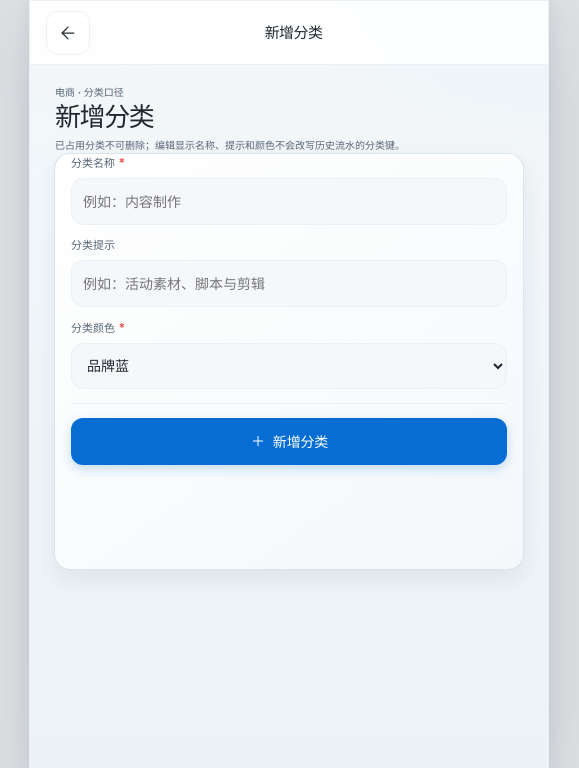
Test: T6 二级表单统一规格 › 分类表单：统一规格类名存在，颜色选择保留，保存路径不破
Expected: the element with class "form-actions" is shown, [71,403,507,465]
Expected: the button with class "form-save" is shown, [71,418,507,465]
In the field labelled "分类名称": (289, 202) [71,178,507,225], type "规格回归分类"
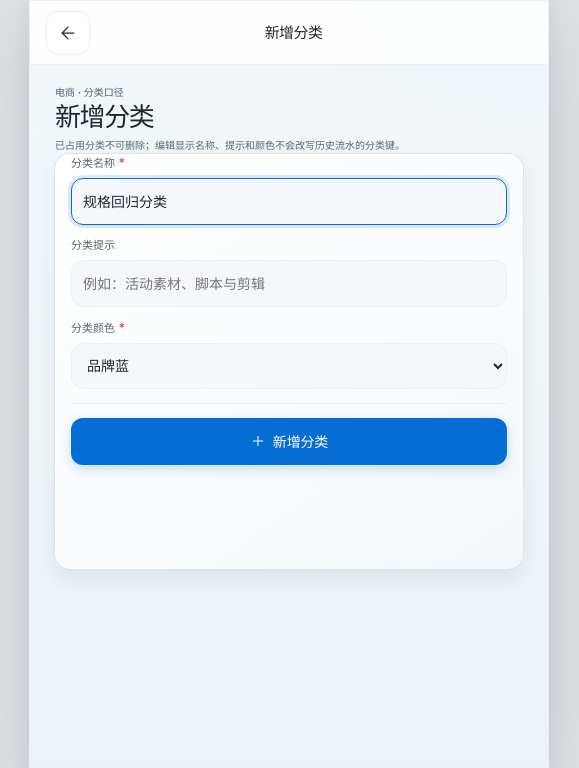
Click the button with class "form-save": (289, 442) [71,418,507,465]
(page scrolled)
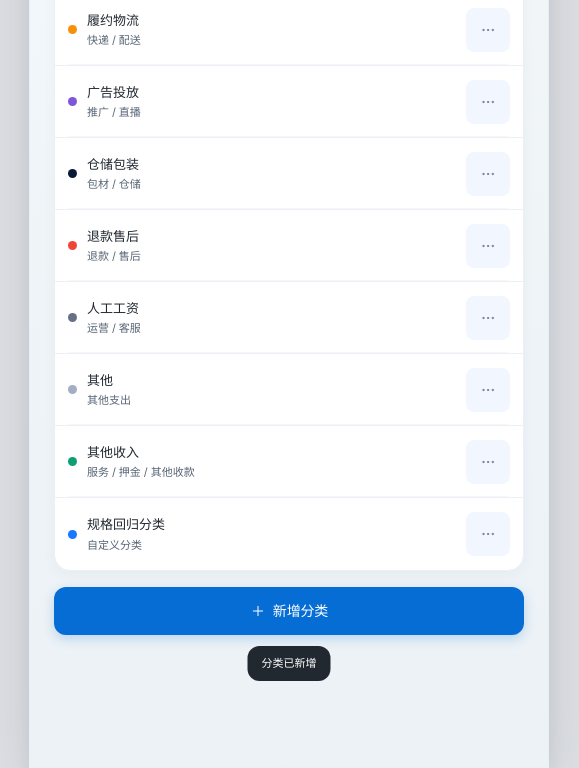
Expected: the text "规格回归分类" is shown, [87,516,165,532]
